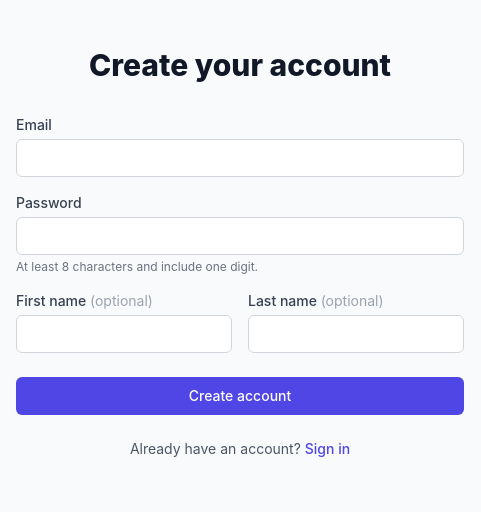
RegisterPage › blocks submit when password is too short
This screenshot has width=481, height=512.
Type "a@b.com" into the field labelled "Email" at (240, 158), box [16,139,464,177]
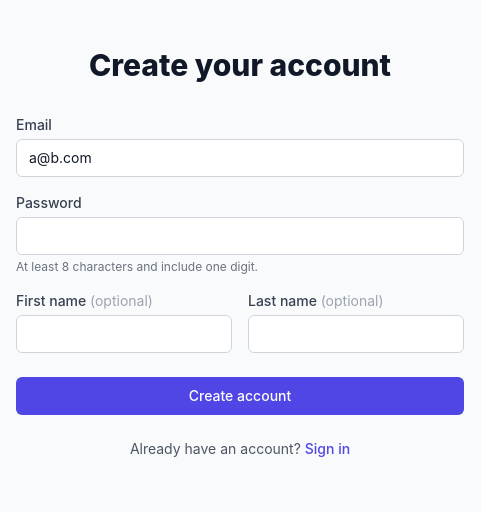
Type "short1" into the password field labelled "Password" at (240, 236), box [16,217,464,255]
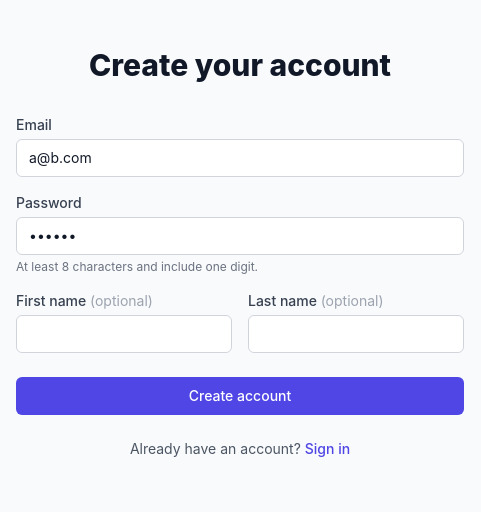
Click the button "Create account" at (240, 396), box [16,377,464,415]
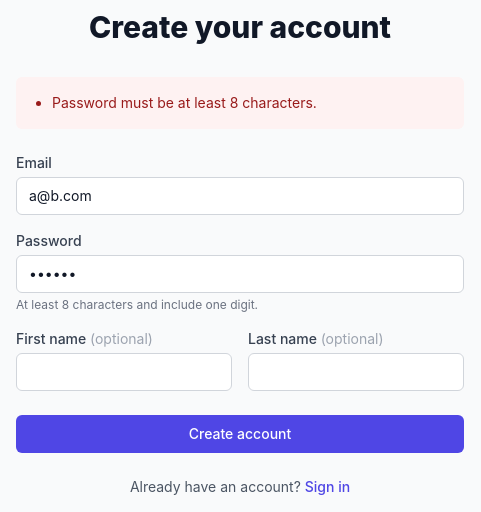
Expected: the message shows "at least 8 characters", [52,94,317,111]
